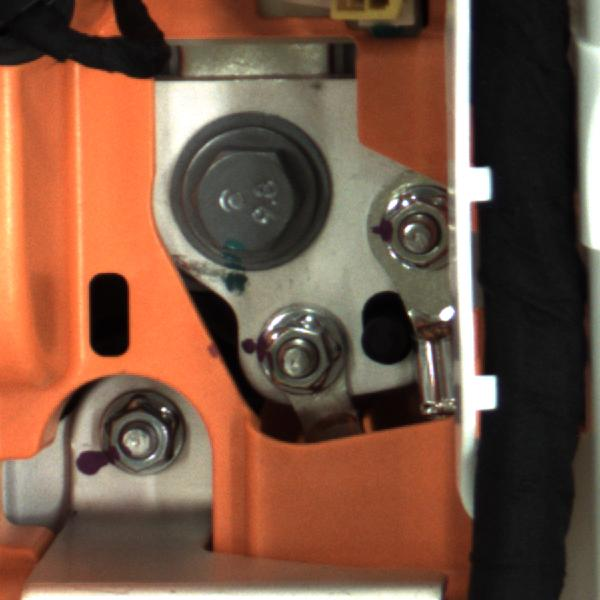nut_b: (148, 122, 326, 269)
screw_s: (102, 390, 189, 482), (264, 299, 350, 392), (365, 190, 461, 263)
